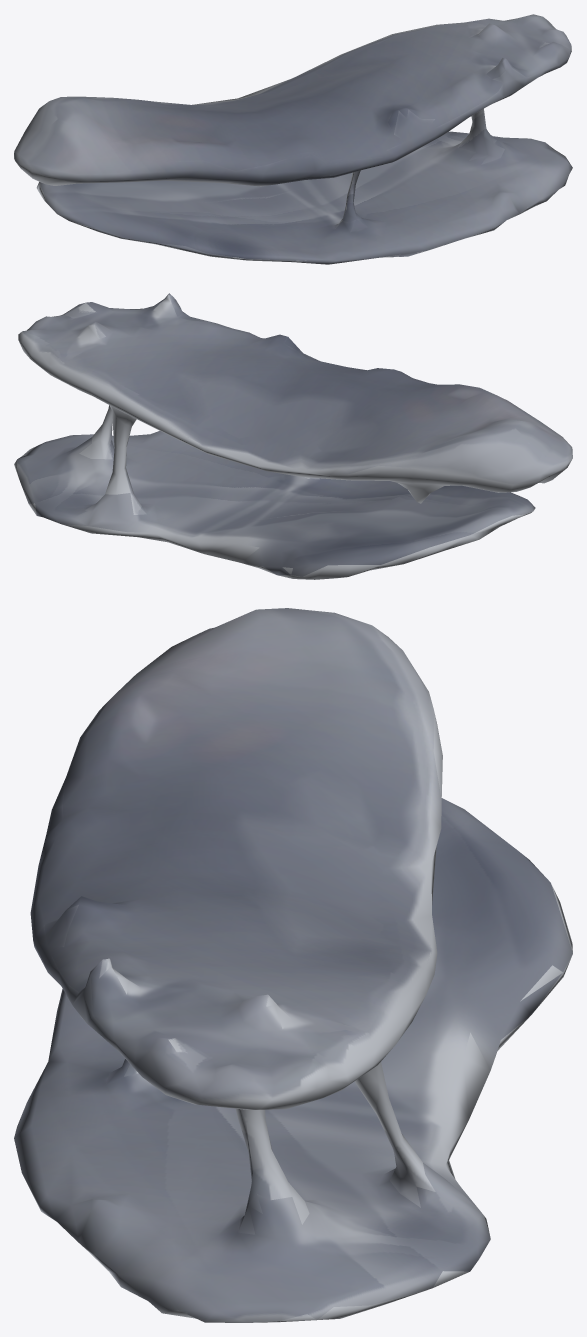
Rendered from Desk.fbx.
The picture shows the model from 3 angles, top to bottom: view 1: azimuth 30°, elevation 25°; view 2: azimuth 150°, elevation 25°; view 3: azimuth 270°, elevation 25°; orthographic projection. The views are drawn at different scales.
Visible parts, largest first — view 1: Desk; view 2: Desk; view 3: Desk.
Part boxes in pixels (x1,y1,x2,y2): Desk: (14,14,572,264); Desk: (14,293,572,579); Desk: (14,608,572,1322).
Bounding box in the file's own units: 22.77 × 6.39 × 11.19.
Materials: 1 (1 with a texture image).
